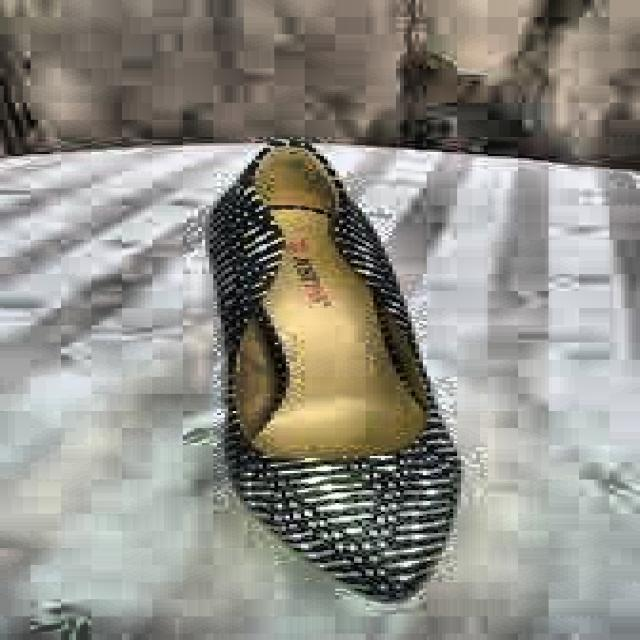shoes: (59, 139, 482, 612)
